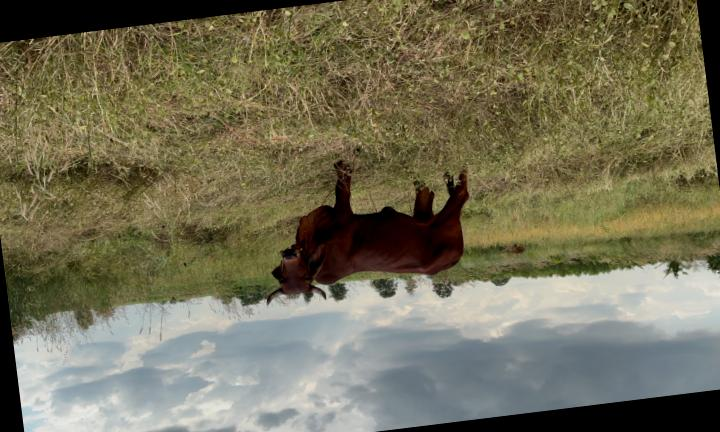Brahman: (267, 163, 468, 304)
